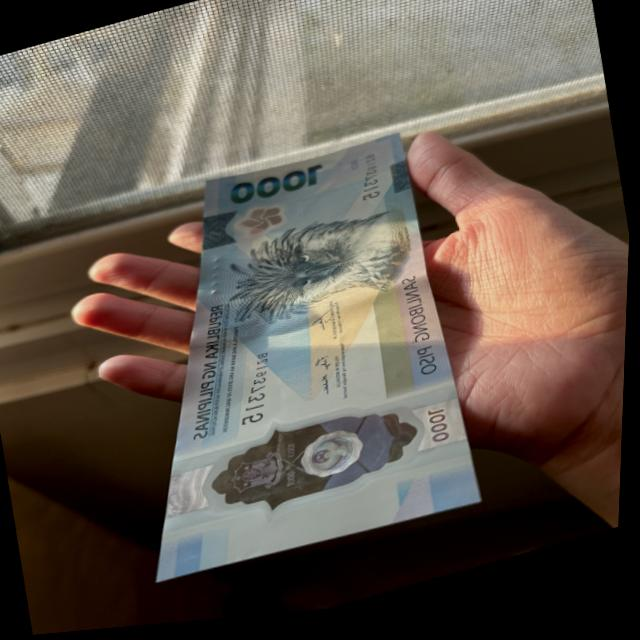clear_window: (195, 395, 455, 544)
eagle: (219, 211, 410, 332)
sampaguita: (235, 203, 290, 244)
